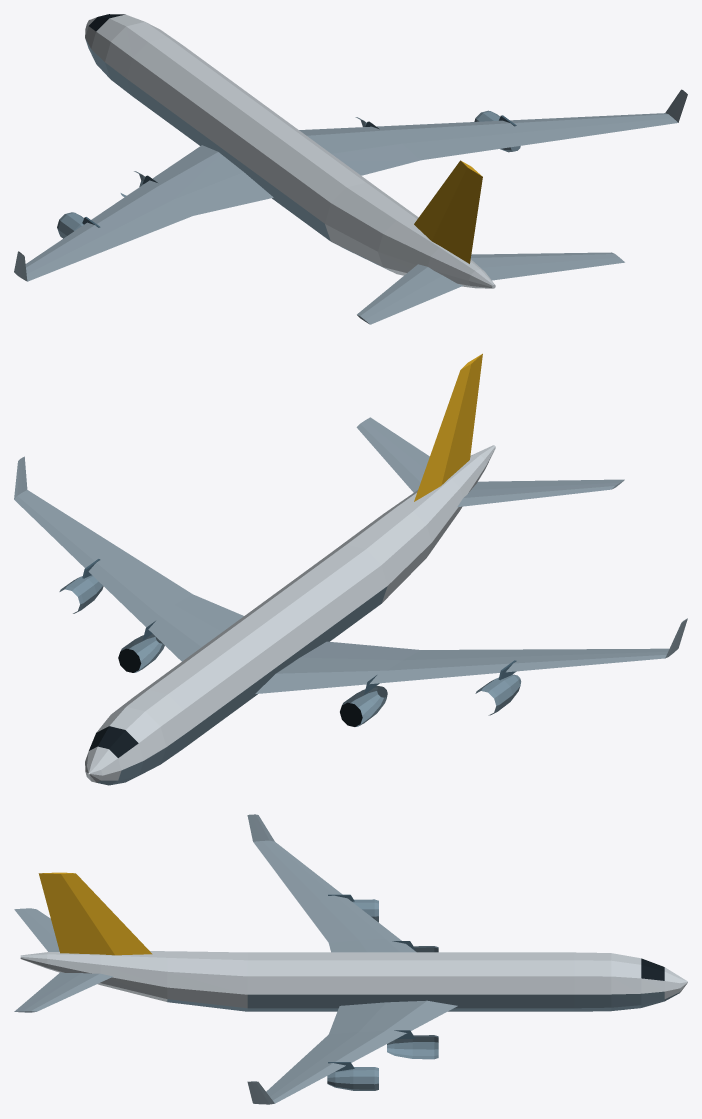
3 renders of one model, top to bottom at view 1: azimuth 30°, elevation 25°; view 2: azimuth 150°, elevation 25°; view 3: azimuth 270°, elevation 25°, orthographic. The views are drawn at different scales.
Parts seen in each view (by area): view 1: lod0; view 2: lod0; view 3: lod0.
Part boxes in pixels (left/top/right/bottom): lod0: left=14, top=14, right=687, bottom=324; lod0: left=14, top=353, right=687, bottom=785; lod0: left=14, top=814, right=687, bottom=1104.
Size of what is drawn, in the model's own units: 0.9368 by 0.229 by 1.
